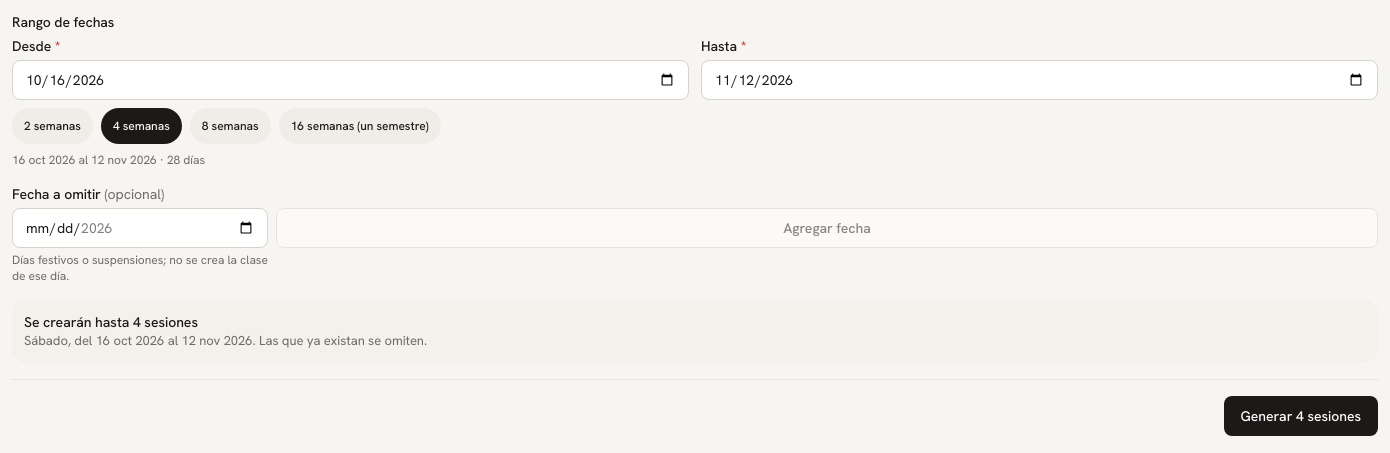
Test: GenerarSesiones › si en el rango no cae ninguna clase avisa y no deja generar
The width and height of the screenshot is (1390, 453).
Type "2026-09-14" into the date field labelled "Desde *" at x=350, y=80, box [12,60,689,100]
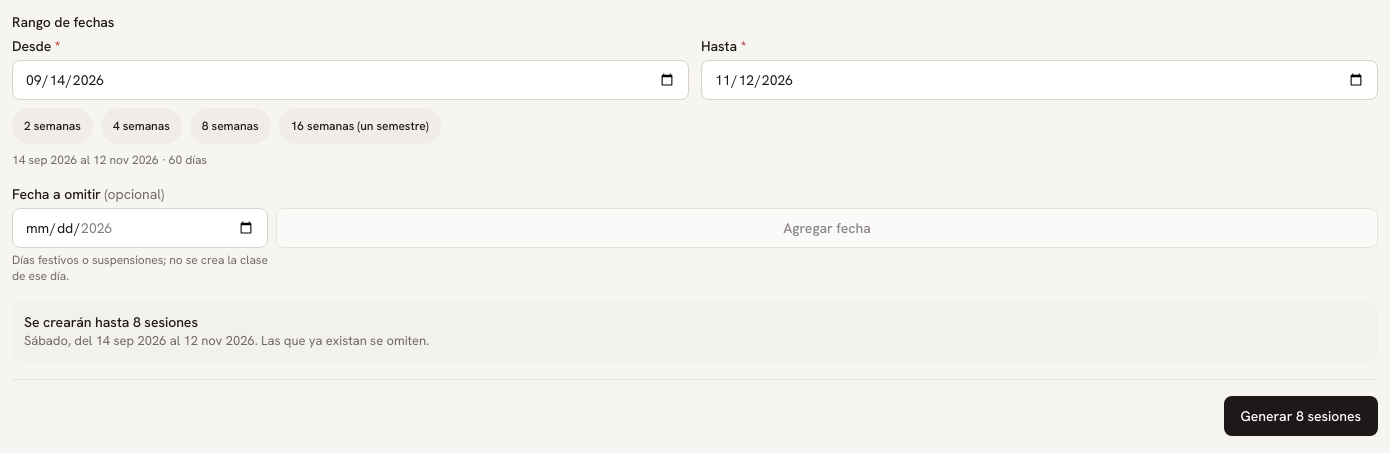
Type "2026-09-18" into the date field labelled "Hasta *" at x=1040, y=80, box [701,60,1378,100]
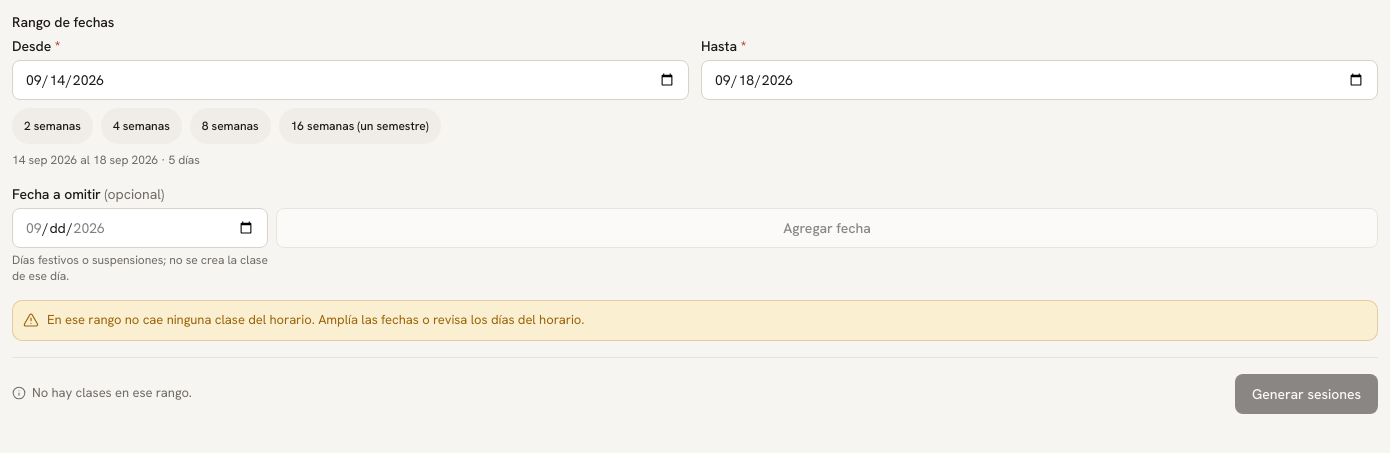
Result: the text "no cae ninguna clase del horario" is shown at [47,311,584,328]
Result: the button "Generar sesiones" is disabled at [1235,374,1378,414]
